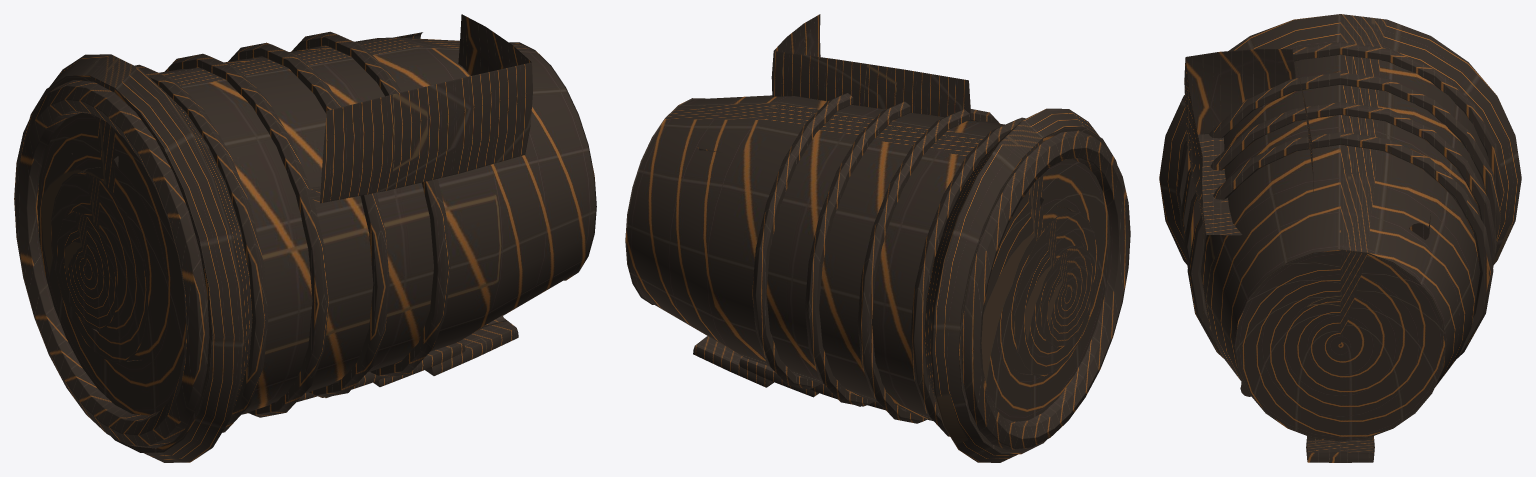
3 renders of one model, left to right at view 1: azimuth 30°, elevation 25°; view 2: azimuth 150°, elevation 25°; view 3: azimuth 270°, elevation 25°, orthographic. The views are drawn at different scales.
Visible parts, largest first — view 1: LOD0_ENGINE_INDUSTRIAL_MAIN, engine_industrial_Material_Mechanical_Merged, HOOK_DRIVE_CORE, HOOK_DRIVE_PLUME, engine_industrial_Material_Hull_Merged; view 2: LOD0_ENGINE_INDUSTRIAL_MAIN, engine_industrial_Material_Mechanical_Merged, HOOK_DRIVE_CORE, HOOK_DRIVE_PLUME, engine_industrial_Material_Hull_Merged; view 3: LOD0_ENGINE_INDUSTRIAL_MAIN, engine_industrial_Material_Mechanical_Merged, engine_industrial_Material_Hull_Merged.
Boxes of the visible parts, x1,y1,x2,y2 form: LOD0_ENGINE_INDUSTRIAL_MAIN: (29, 37, 596, 462); engine_industrial_Material_Mechanical_Merged: (14, 14, 532, 448); HOOK_DRIVE_CORE: (51, 167, 147, 362); HOOK_DRIVE_PLUME: (57, 207, 116, 332); engine_industrial_Material_Hull_Merged: (242, 319, 518, 414); LOD0_ENGINE_INDUSTRIAL_MAIN: (625, 95, 1116, 462); engine_industrial_Material_Mechanical_Merged: (697, 14, 1130, 450); HOOK_DRIVE_CORE: (1014, 206, 1098, 376); HOOK_DRIVE_PLUME: (1041, 241, 1093, 349); engine_industrial_Material_Hull_Merged: (693, 336, 932, 420); LOD0_ENGINE_INDUSTRIAL_MAIN: (1159, 14, 1521, 441); engine_industrial_Material_Mechanical_Merged: (1176, 42, 1504, 396); engine_industrial_Material_Hull_Merged: (1306, 436, 1374, 462).
Size of the model in its own units: 3.52 by 2.9 by 2.87.
Materials: 3 (3 with a texture image).
